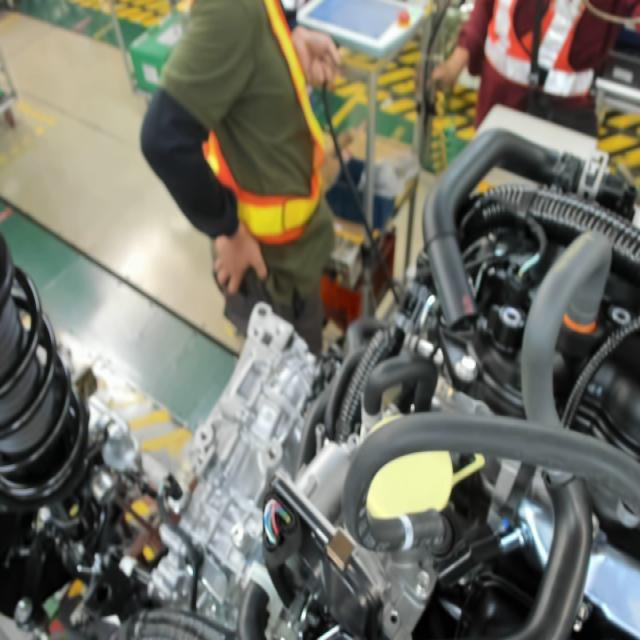Tube Sub Assy Fuel-W: (393, 503, 416, 558)
